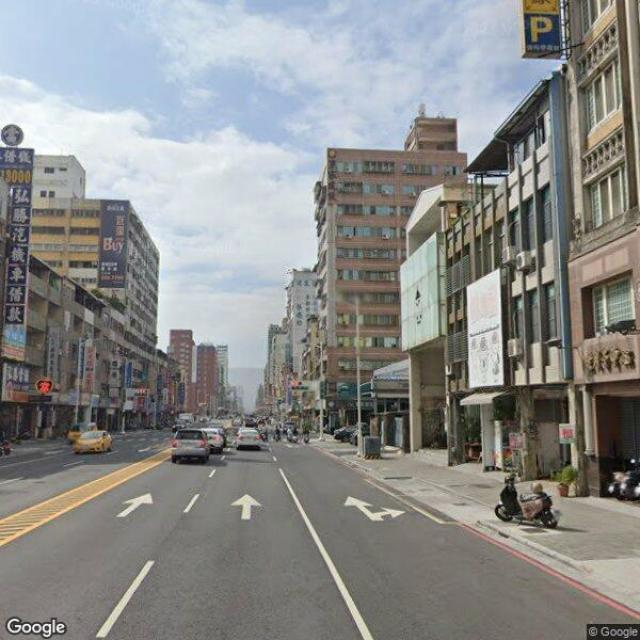Legalparking: (332, 414, 392, 454)
illegalparking: (490, 478, 572, 529)
